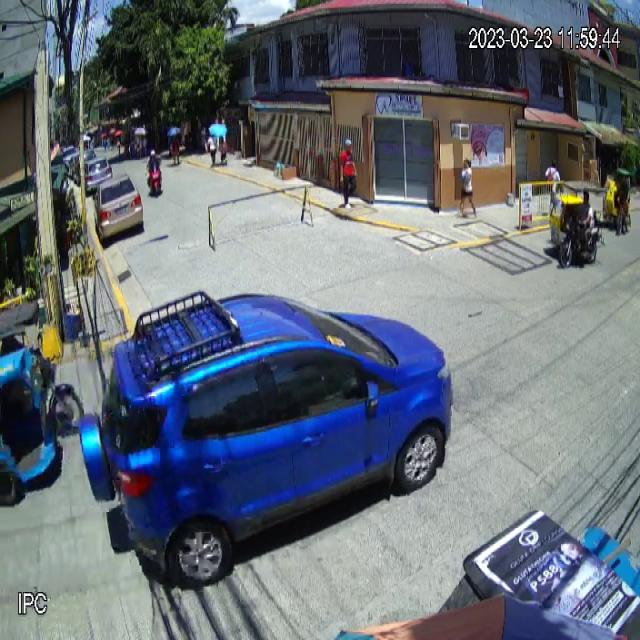Car: (75, 288, 455, 589)
